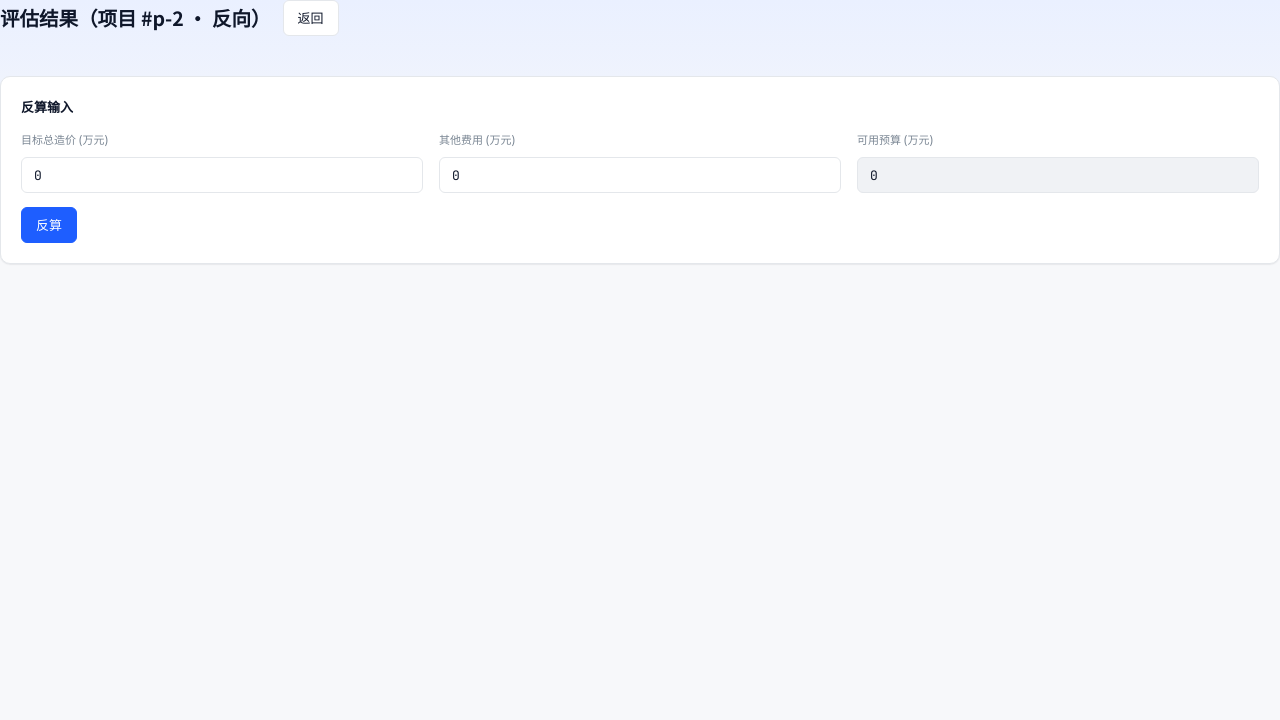
ResultView › reverse 模式：allocator panel 仅在反算结果出现后渲染
Expected: the text "FP 模块反算分摊" is not shown
Replace the text in the number field below "目标总造价 (万元)" with "1000000": (222,175) 21,157 -> 423,193
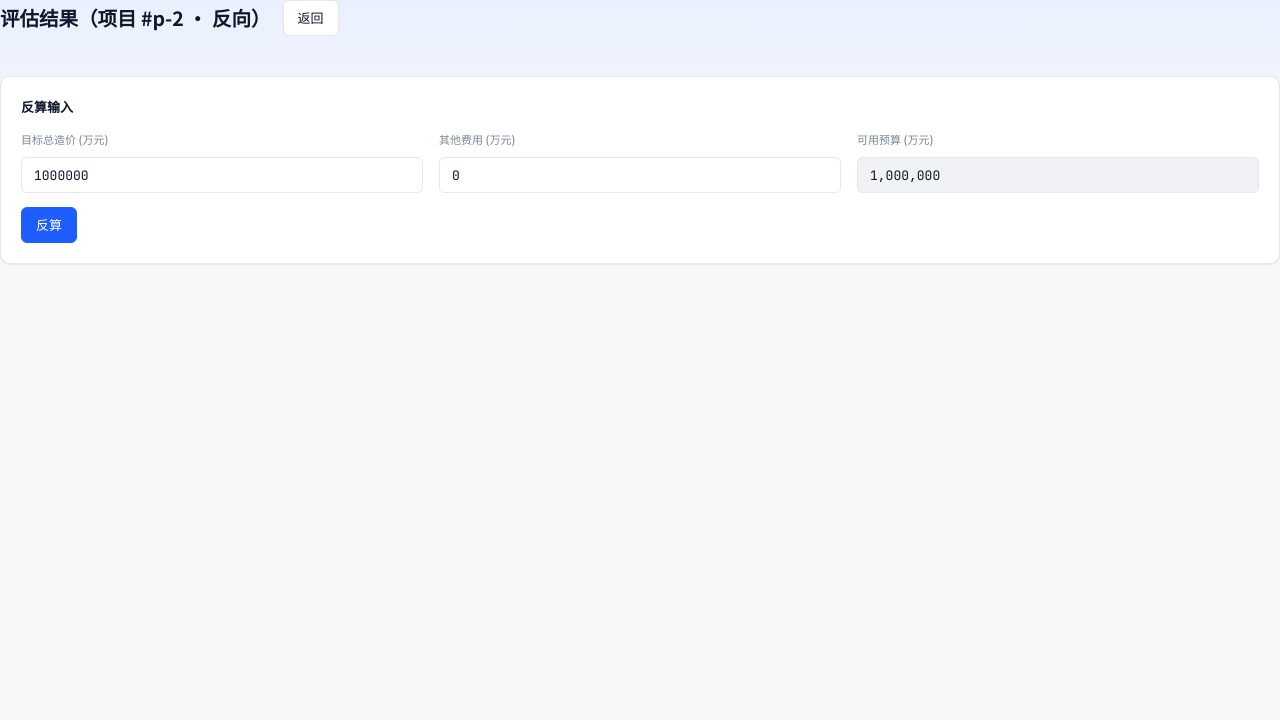
Click the button "反算": (49,225) 21,207 -> 77,243
(page scrolled)
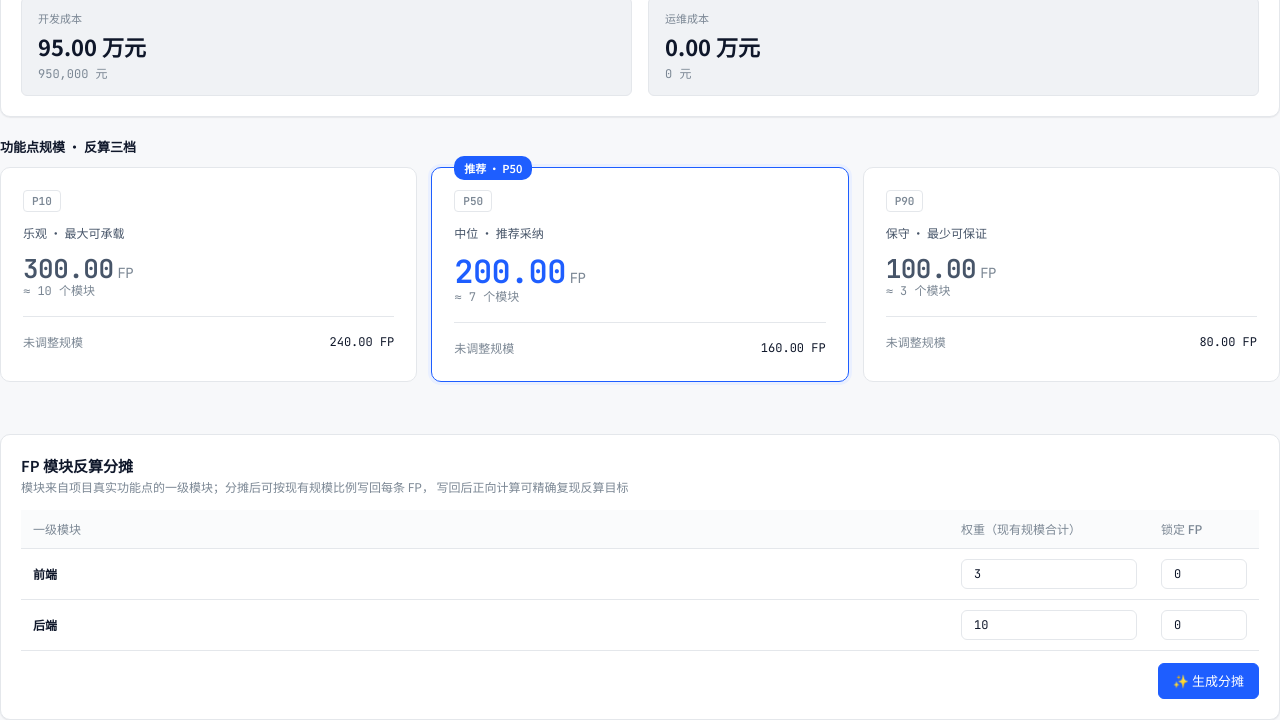
Expected: the text "FP 模块反算分摊" is shown, 21,455 -> 133,476
Expected: the button "✨ 生成分摊" is shown, 1158,662 -> 1259,698
